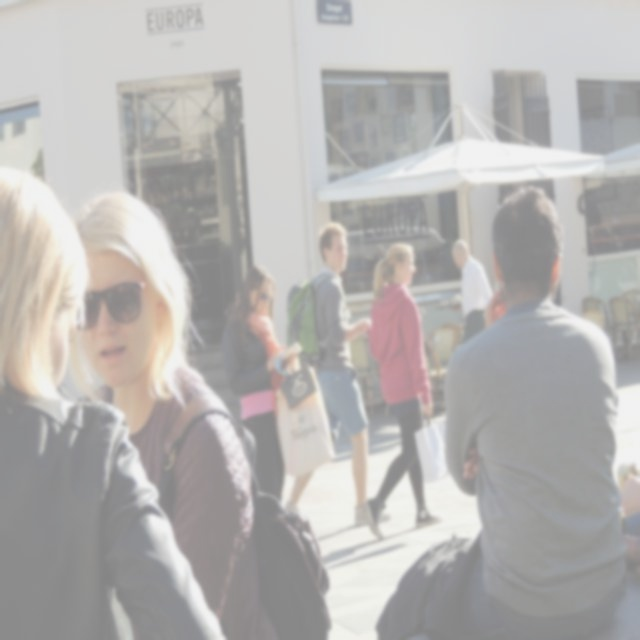pessoa: (372, 190, 632, 640), (67, 188, 267, 640), (69, 192, 259, 640), (268, 219, 394, 536), (358, 242, 446, 540), (222, 264, 298, 506), (452, 240, 494, 346), (616, 461, 640, 588), (347, 241, 389, 291), (412, 240, 454, 284)
